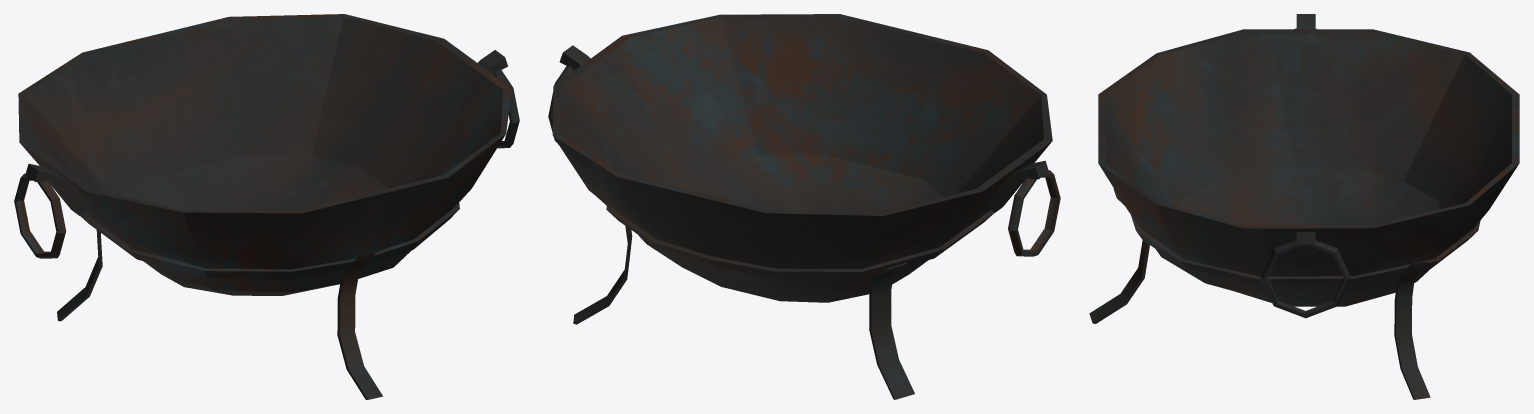
File: firePitNew.fbx
3 views of the same model, side by side, from view 1: azimuth 30°, elevation 25°; view 2: azimuth 150°, elevation 25°; view 3: azimuth 270°, elevation 25° (orthographic). The views are drawn at different scales.
Visible parts, largest first — view 1: brazier_GEO; view 2: brazier_GEO; view 3: brazier_GEO.
Part boxes in pixels (left/top/right/bottom): brazier_GEO: left=14, top=14, right=519, bottom=399; brazier_GEO: left=548, top=14, right=1060, bottom=399; brazier_GEO: left=1089, top=14, right=1519, bottom=399.
Size of the model in its own units: 0.9069 by 0.3835 by 0.7447.
